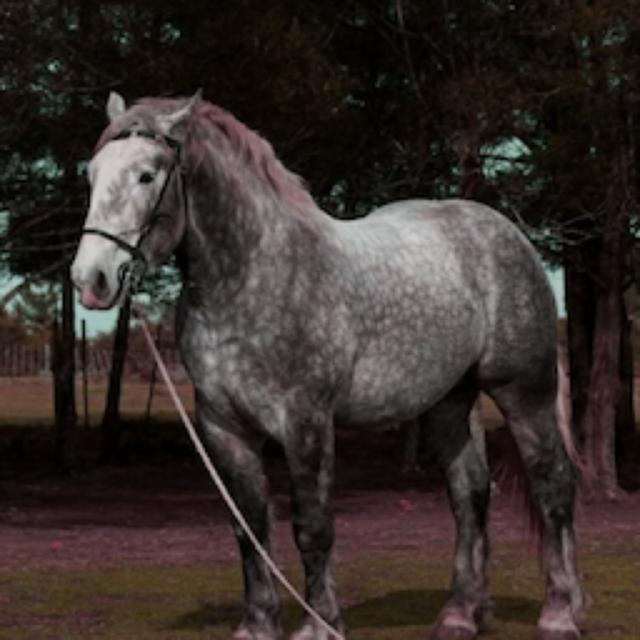Horse: (65, 82, 600, 638)
